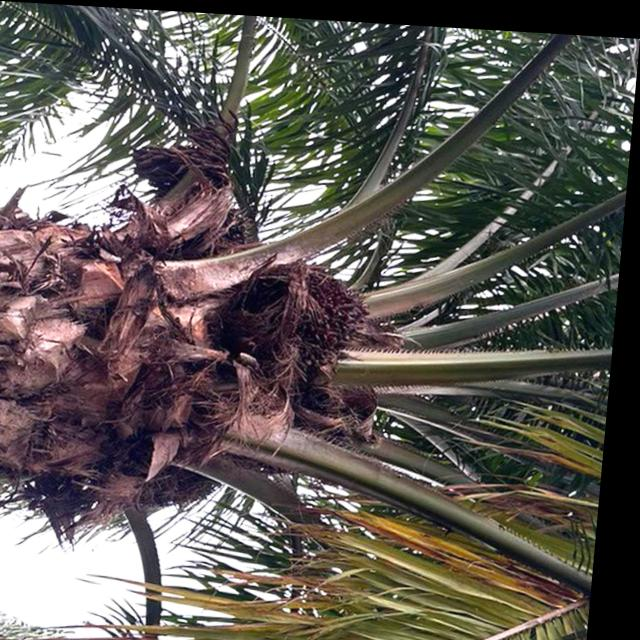ripe: (237, 244, 383, 392)
